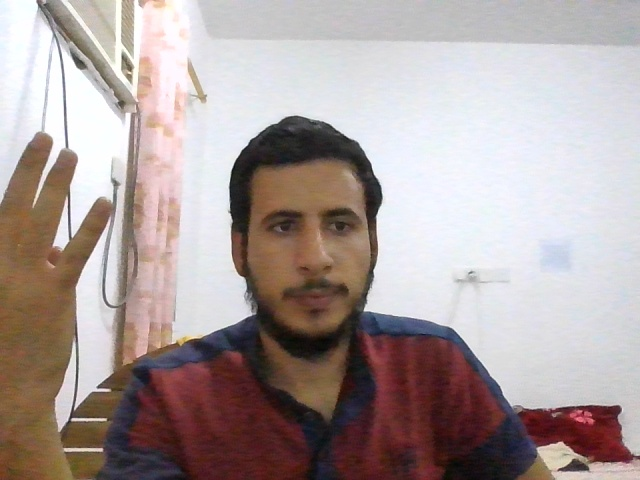Three: (1, 130, 114, 398)
